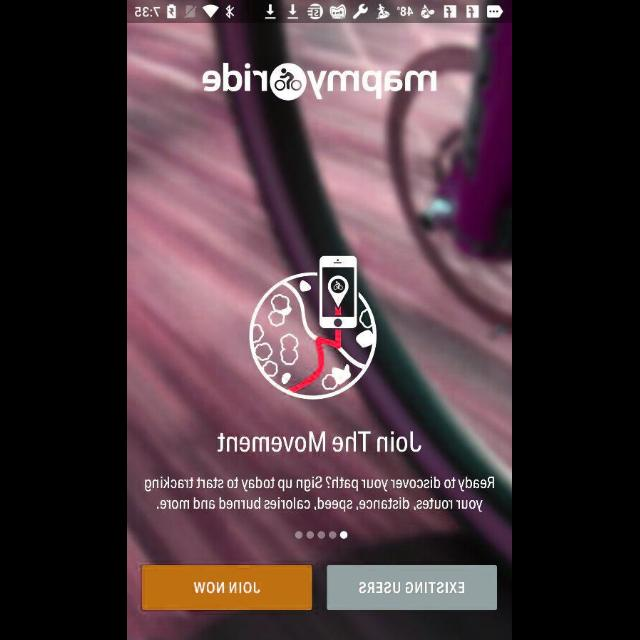backgroundimage: (128, 24, 512, 640)
image: (250, 255, 380, 400), (204, 62, 438, 101)
pageindicator: (295, 530, 349, 540)
text: (145, 476, 495, 512), (218, 431, 422, 453)
textbutton: (142, 565, 314, 611), (327, 565, 498, 611)
uppertaskbar: (128, 1, 512, 23)
